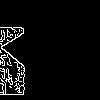Y: (24, 25, 100, 82)
